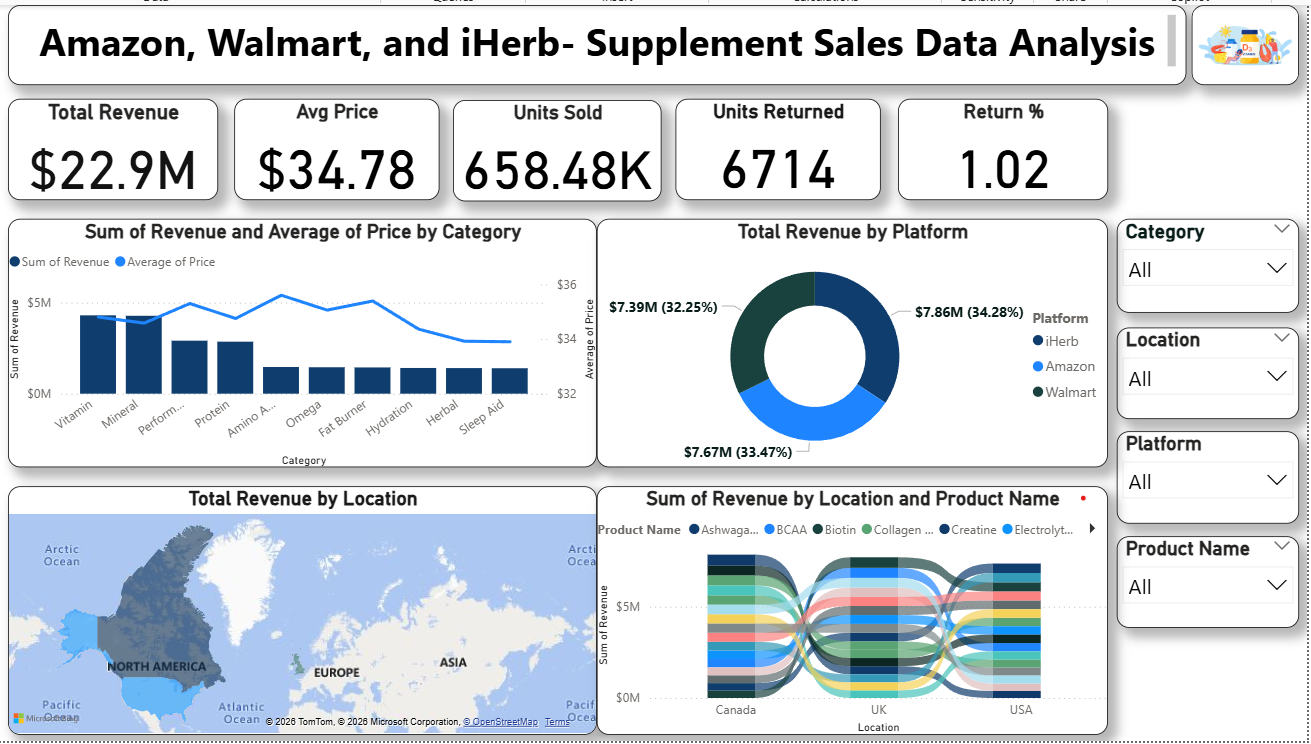

What the dashboard file says about the page in this screenshot:
{"tool":"powerbi","page":{"name":"Page 1","canvas":[1280,720],"ordinal":0},"visuals":[{"type":"textbox","box":[9.6,0,1152.7,78.2],"z":0},{"type":"image","box":[1167.8,0,105.2,78.3],"z":1000},{"type":"card","title":"Total Revenue","fields":{"Values":["Sum(Supplement_Sales_Weekly_Expanded.Revenue)"]},"box":[9.8,91.7,205.4,99],"z":2000},{"type":"card","title":"Avg Price","fields":{"Values":["Avg(Supplement_Sales_Weekly_Expanded.Price)"]},"box":[231.1,91.7,200.5,99],"z":3000},{"type":"card","title":"Units Sold","fields":{"Values":["Sum(Supplement_Sales_Weekly_Expanded.Units Sold)"]},"box":[445.1,92.9,204.2,99],"z":4000},{"type":"card","title":"Units Returned","fields":{"Values":["Sum(Supplement_Sales_Weekly_Expanded.Units Returned)"]},"box":[662.8,91.7,200.5,99],"z":5000},{"type":"card","title":"Return %","fields":{"Values":["Supplement_Sales_Weekly_Expanded.Return %"]},"box":[880.4,91.7,205.4,99],"z":6000},{"type":"slicer","fields":{"Values":["Supplement_Sales_Weekly_Expanded.Category"]},"box":[1094.4,209.1,178.5,91.7],"z":7000},{"type":"slicer","fields":{"Values":["Supplement_Sales_Weekly_Expanded.Location"]},"box":[1094.4,315.5,178.5,89.3],"z":8000},{"type":"slicer","fields":{"Values":["Supplement_Sales_Weekly_Expanded.Platform"]},"box":[1094.4,417,178.5,90.5],"z":9000},{"type":"slicer","fields":{"Values":["Supplement_Sales_Weekly_Expanded.Product Name"]},"box":[1094.4,519.7,178.5,89.3],"z":10000},{"type":"lineStackedColumnComboChart","fields":{"Category":["Supplement_Sales_Weekly_Expanded.Category"],"Y":["Sum(Supplement_Sales_Weekly_Expanded.Revenue)"],"Y2":["Avg(Supplement_Sales_Weekly_Expanded.Price)"]},"box":[9.8,209.1,576,243.3],"z":11000},{"type":"donutChart","fields":{"Category":["Supplement_Sales_Weekly_Expanded.Platform"],"Y":["Sum(Supplement_Sales_Weekly_Expanded.Revenue)"]},"box":[585.7,209.1,500.1,243.3],"z":12000},{"type":"filledMap","fields":{"Category":["Supplement_Sales_Weekly_Expanded.Location"]},"box":[10,470.5,576,243],"z":13000},{"type":"ribbonChart","fields":{"Category":["Supplement_Sales_Weekly_Expanded.Location"],"Y":["Sum(Supplement_Sales_Weekly_Expanded.Revenue)"],"Series":["Supplement_Sales_Weekly_Expanded.Product Name"]},"box":[585.7,470.8,500.1,243.3],"z":14000}]}

Visuals, with their boxes on the page's 1280x720 design canvas (x1, y1, x2, y2). These are canvas units, not pixel positions in the 1311x744 screenshot, which may show the page scaled, cropped or inside an application window:
textbox: x1=10 y1=0 x2=1162 y2=78
image: x1=1168 y1=0 x2=1273 y2=78
"Total Revenue" card: x1=10 y1=92 x2=215 y2=191
"Avg Price" card: x1=231 y1=92 x2=432 y2=191
"Units Sold" card: x1=445 y1=93 x2=649 y2=192
"Units Returned" card: x1=663 y1=92 x2=863 y2=191
"Return %" card: x1=880 y1=92 x2=1086 y2=191
slicer - Supplement_Sales_Weekly_Expanded.Category: x1=1094 y1=209 x2=1273 y2=301
slicer - Supplement_Sales_Weekly_Expanded.Location: x1=1094 y1=316 x2=1273 y2=405
slicer - Supplement_Sales_Weekly_Expanded.Platform: x1=1094 y1=417 x2=1273 y2=508
slicer - Supplement_Sales_Weekly_Expanded.Product Name: x1=1094 y1=520 x2=1273 y2=609
lineStackedColumnComboChart - Supplement_Sales_Weekly_Expanded.Category x Sum(Supplement_Sales_Weekly_Expanded.Revenue): x1=10 y1=209 x2=586 y2=452
donutChart - Supplement_Sales_Weekly_Expanded.Platform x Sum(Supplement_Sales_Weekly_Expanded.Revenue): x1=586 y1=209 x2=1086 y2=452
filledMap - Supplement_Sales_Weekly_Expanded.Location: x1=10 y1=470 x2=586 y2=714
ribbonChart - Supplement_Sales_Weekly_Expanded.Location x Sum(Supplement_Sales_Weekly_Expanded.Revenue): x1=586 y1=471 x2=1086 y2=714
